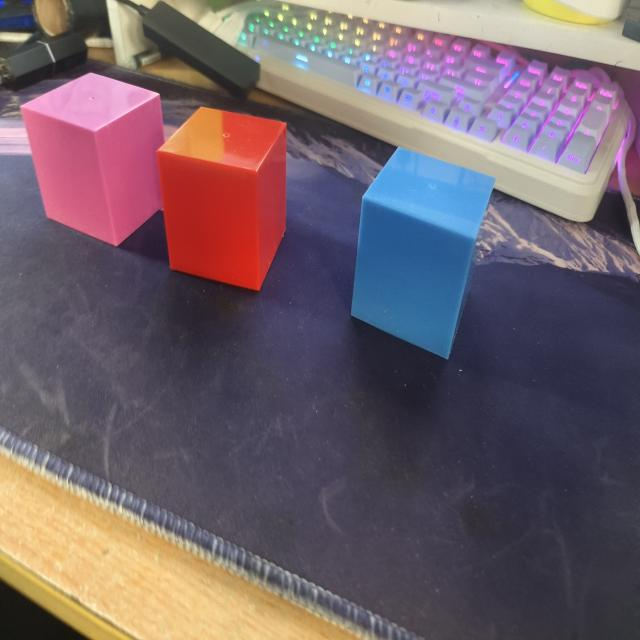blue: (349, 132, 497, 364)
pink: (15, 65, 170, 254)
red: (150, 103, 294, 291)
